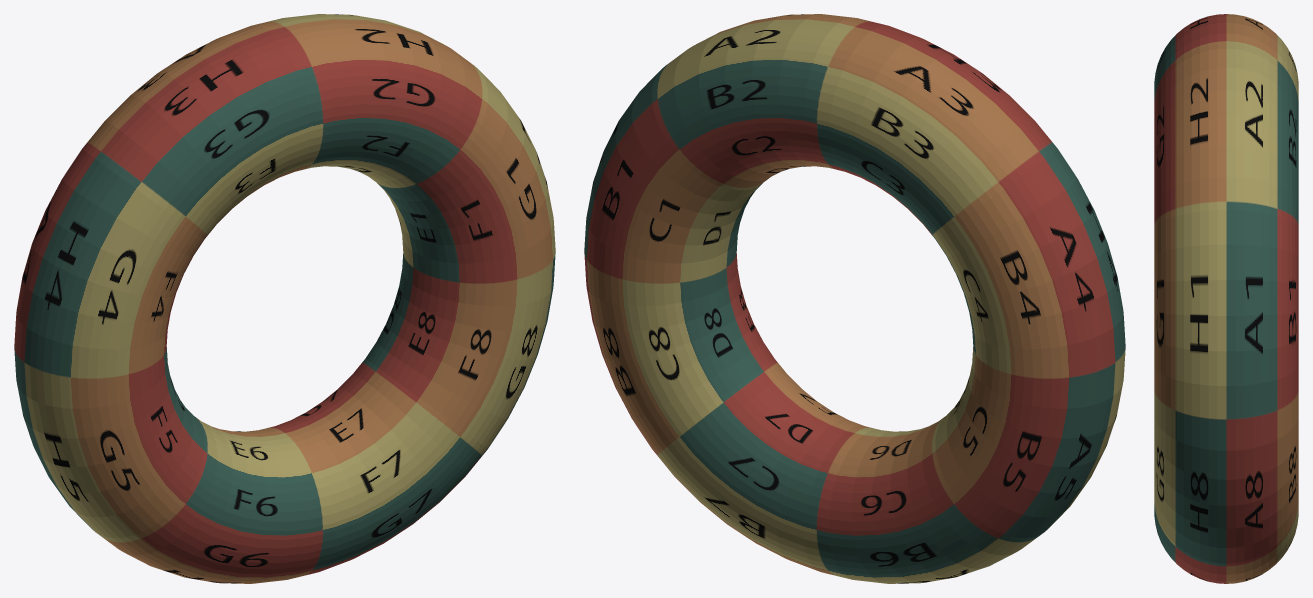
Rendered from texture_torus_R28_r29.glb.
3 views of the same model, side by side, from view 1: azimuth 30°, elevation 25°; view 2: azimuth 150°, elevation 25°; view 3: azimuth 270°, elevation 25° (orthographic). The views are drawn at different scales.
Visible parts, largest first — view 1: world; view 2: world; view 3: world.
Part boxes in pixels (box(x1,y1,x2,y2)): world: box(14, 14, 555, 583); world: box(584, 14, 1125, 583); world: box(1154, 14, 1298, 583).
Size of the model in its own units: 38.4 by 38.32 by 9.71.
1 material, 1 textured.
